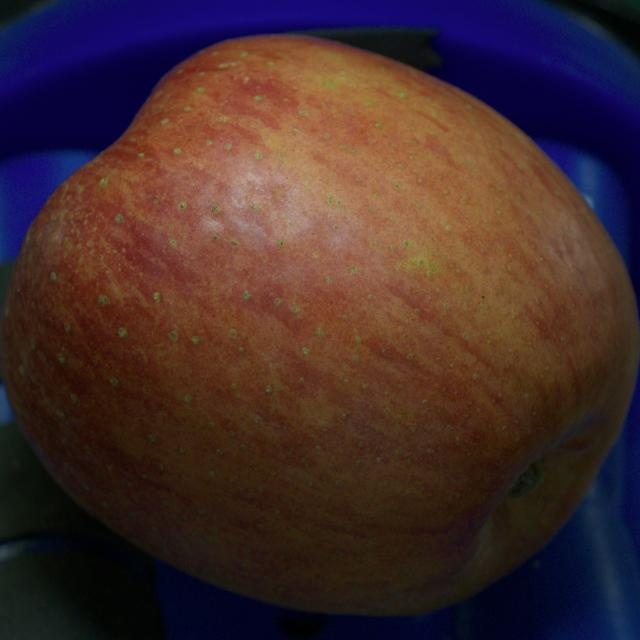apple: (1, 36, 639, 614)
